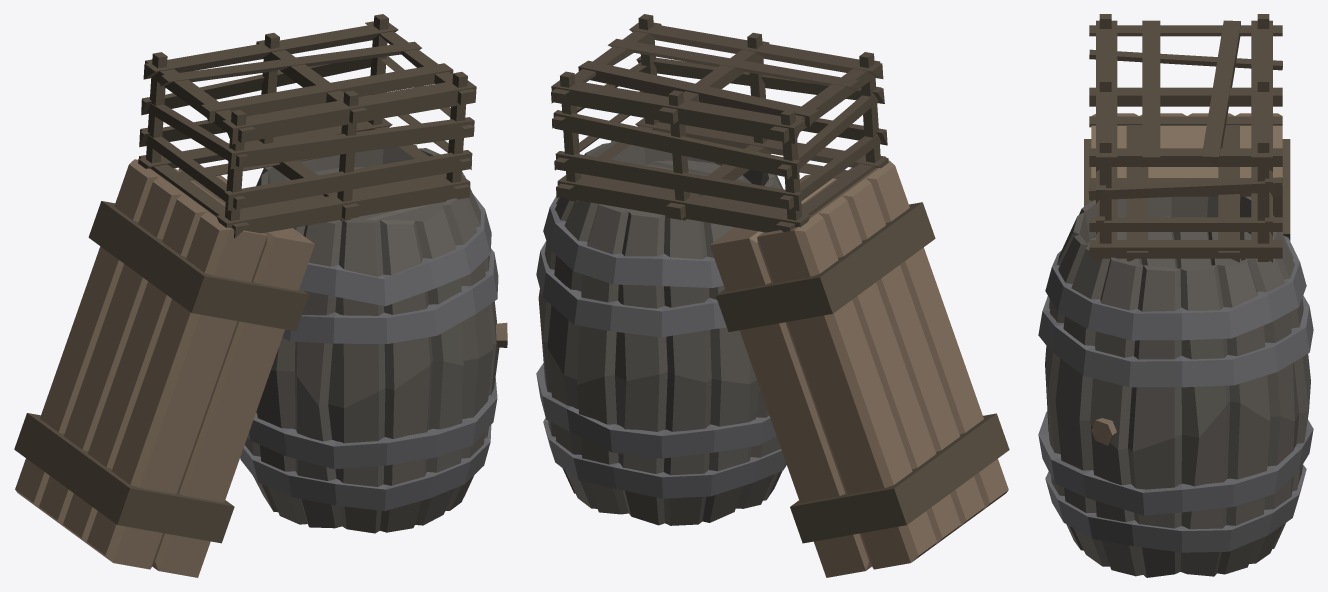
File: SM_Prop_Stack_03.glb
3 renders of one model, left to right at view 1: azimuth 30°, elevation 25°; view 2: azimuth 150°, elevation 25°; view 3: azimuth 270°, elevation 25°, orthographic.
Visible parts, largest first — view 1: SM_Prop_Stack_03; view 2: SM_Prop_Stack_03; view 3: SM_Prop_Stack_03.
Part boxes in pixels (bbox=[...]): SM_Prop_Stack_03: bbox=[14, 14, 507, 577]; SM_Prop_Stack_03: bbox=[536, 14, 1009, 577]; SM_Prop_Stack_03: bbox=[1038, 14, 1313, 577].
Size of the model in its own units: 0.0134 by 0.0138 by 0.00769.
Materials: 1 (1 with a texture image).
